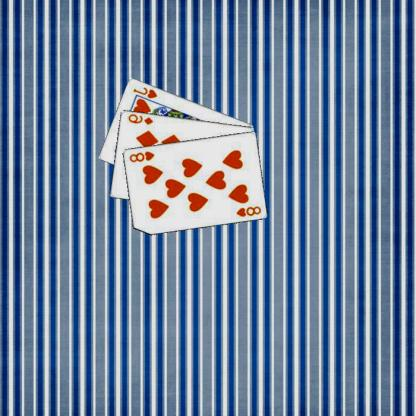8H: (128, 148, 157, 164), (235, 203, 264, 218)
9D: (127, 112, 156, 126)
JH: (132, 84, 160, 100)
